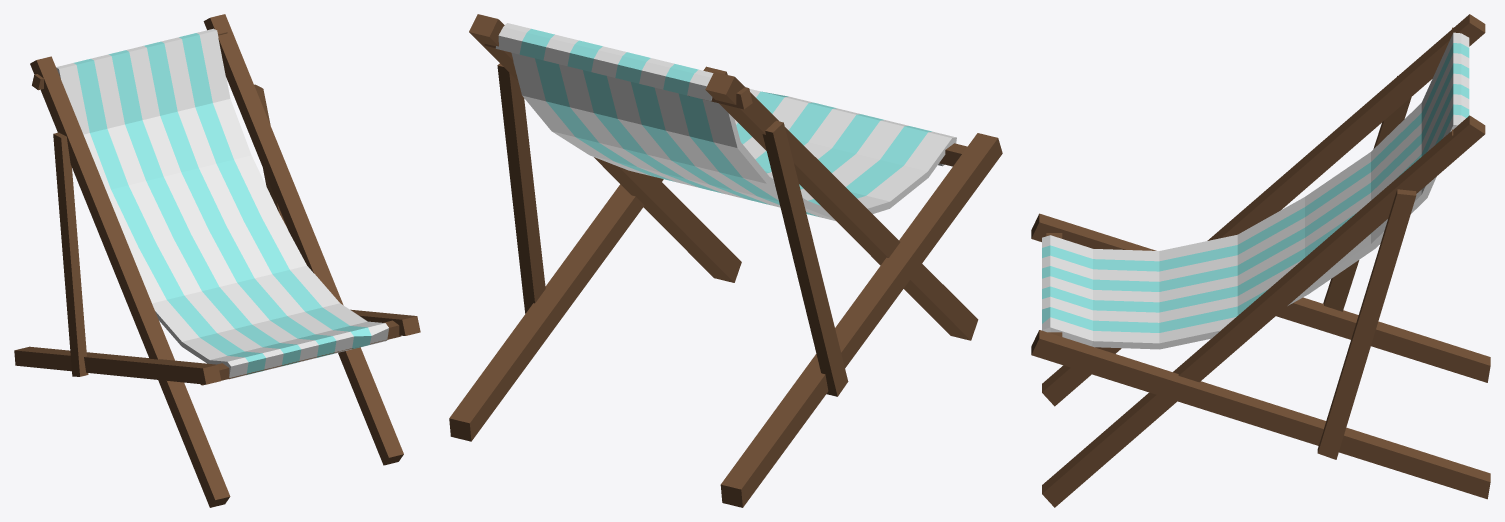
The model's file is BeachChair.fbx.
The picture shows the model from 3 angles, left to right: view 1: azimuth 30°, elevation 25°; view 2: azimuth 150°, elevation 25°; view 3: azimuth 270°, elevation 25°; orthographic projection. The views are drawn at different scales.
Visible parts, largest first — view 1: Plane.001, Cube.005; view 2: Cube.005, Plane.001; view 3: Cube.005, Plane.001.
Boxes of the visible parts, bbox=[...] form: Plane.001: bbox=[56, 28, 388, 379]; Cube.005: bbox=[14, 14, 420, 507]; Cube.005: bbox=[449, 14, 1002, 507]; Plane.001: bbox=[495, 23, 956, 220]; Cube.005: bbox=[1031, 14, 1490, 507]; Plane.001: bbox=[1042, 32, 1469, 349].
Bounding box in the file's own units: 420 × 563 × 610.
